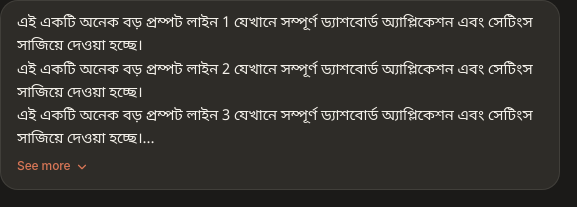
Test: Claude Redesign: Prompt Collapsing, Code Artifact Boxes & Lovable Voice Waveform › renders CollapsibleUserPrompt clamped by default for long prompts (>800 chars or >12 lines) and toggles cleanly via See more / See less
Later steps or results of the test are not shown.
Click the button with test id "user-prompt-see-more-btn" at [53, 167], box top-left (17, 158), bottom-right (89, 176)
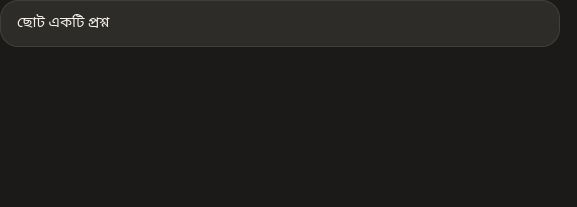
Expected: the button with test id "user-prompt-see-more-btn" is gone
